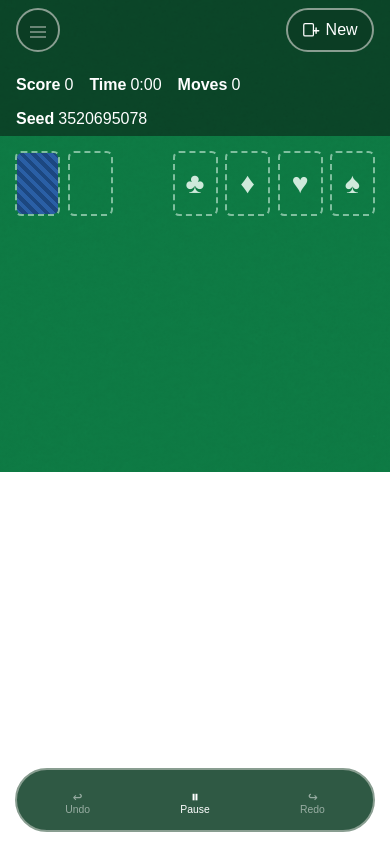
Test case: GameView modal integration › opens Settings via MobileSidebarMenu.vue, independent of the PC panel
Click the button named "メニューを開く": (38, 32) x1=18 y1=10 x2=58 y2=54
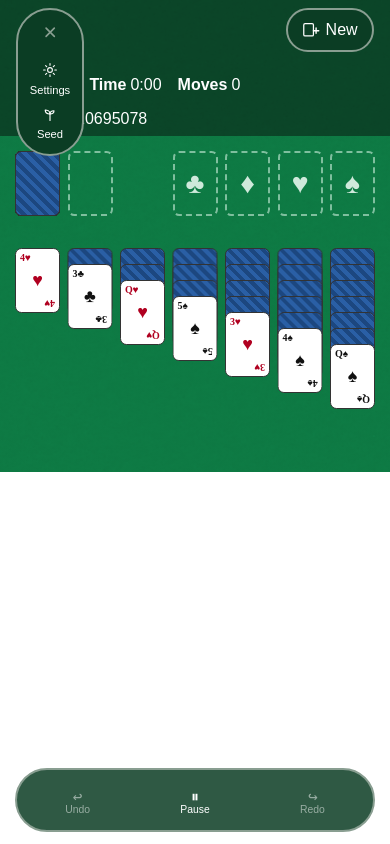
Click the button with aria-label "Settings": (50, 76) x1=18 y1=54 x2=82 y2=98
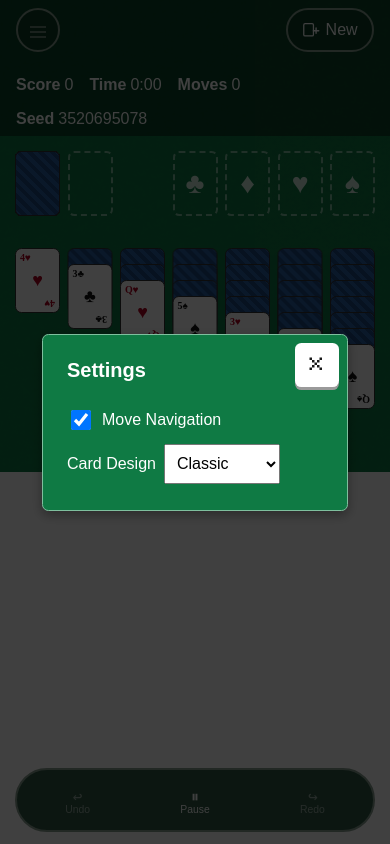
Now the dialog named "Settings" is shown
